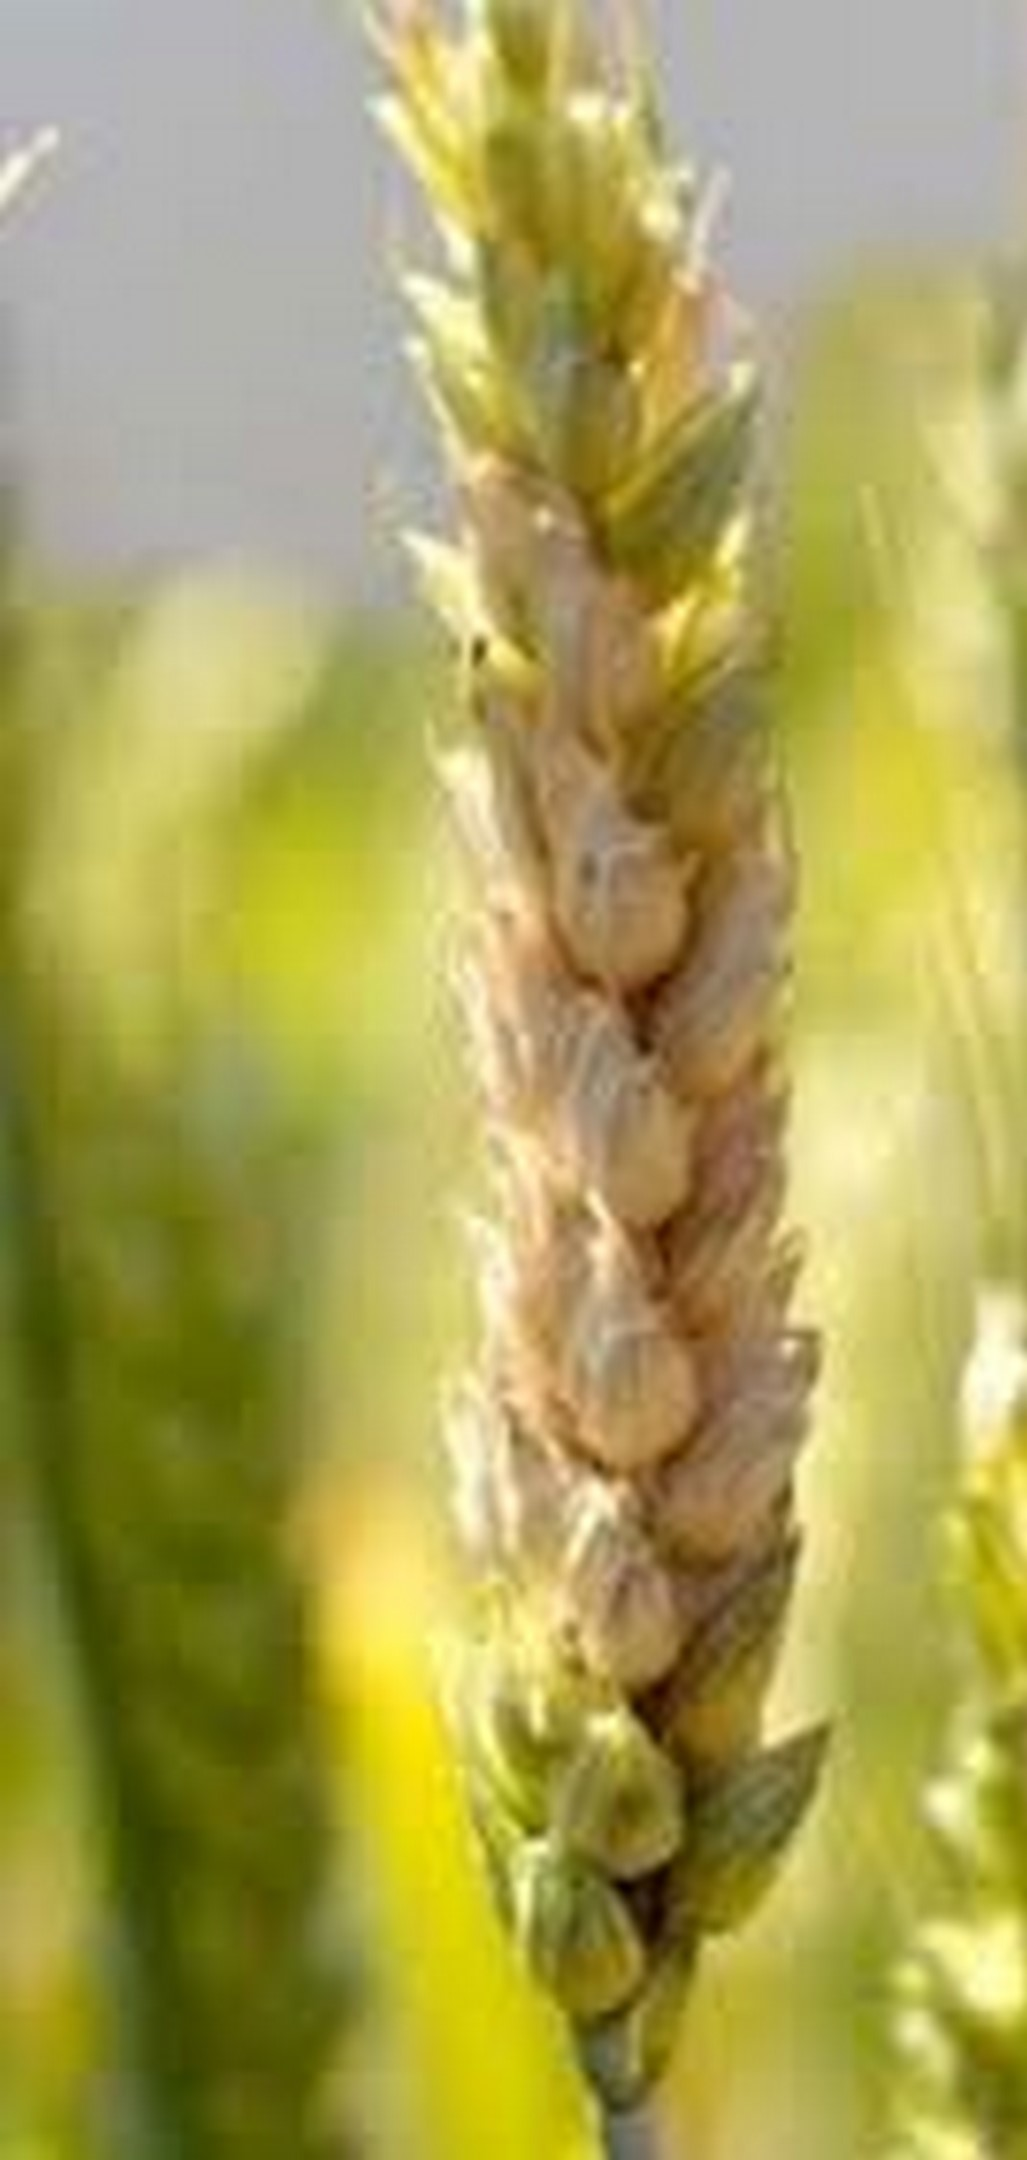Wheat scab: (328, 56, 884, 2022)
